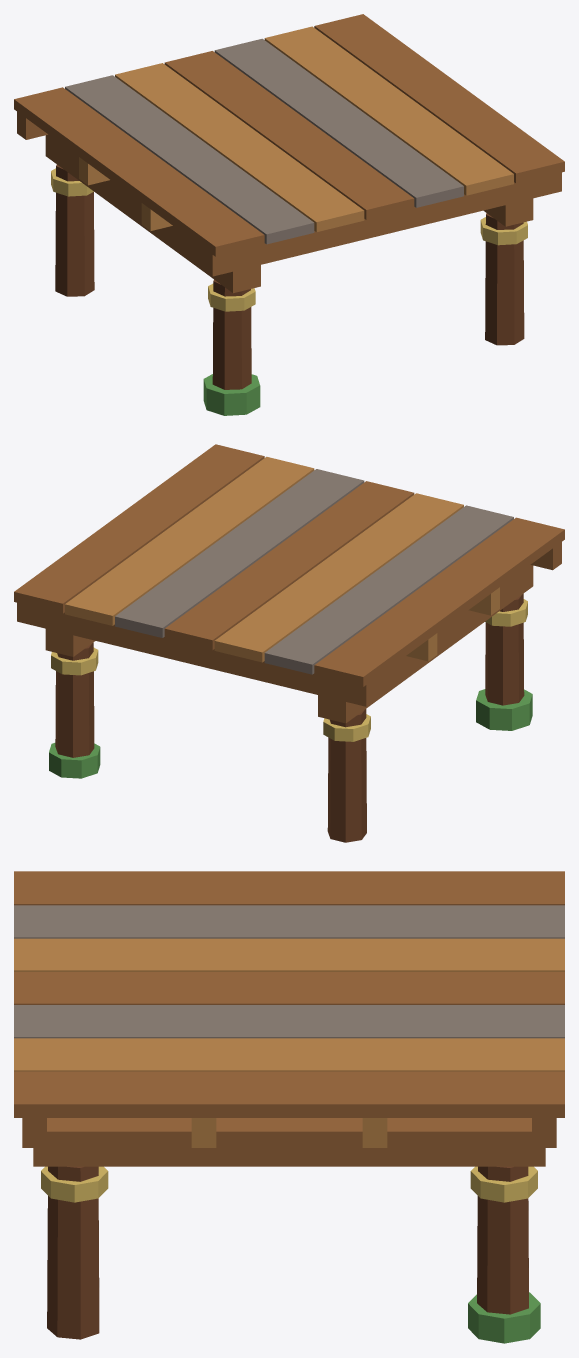
The model's file is floor_wood.glb.
3 renders of one model, top to bottom at view 1: azimuth 30°, elevation 25°; view 2: azimuth 150°, elevation 25°; view 3: azimuth 270°, elevation 25°, orthographic. The views are drawn at different scales.
Visible parts, largest first — view 1: Deck_0.004, Deck_6.003, Deck_3.003, Deck_1.004, Deck_2.004, Deck_5.003, Deck_4.003, Joist_0, Post_2, Post_1.001, Bearer_0.002, Post_0.001 (+5 smaller); view 2: Deck_0.004, Deck_6.003, Deck_3.003, Deck_1.004, Deck_2.004, Deck_4.003, Deck_5.003, Joist_3, Post_1.001, Bearer_0.002, Post_3, Post_0.001 (+6 smaller); view 3: Deck_6.003, Bearer_1.002, Deck_0.004, Deck_1.004, Deck_2.004, Deck_4.003, Deck_5.003, Deck_3.003, Post_2, Post_3, Post_Moss_3, Post_Wrap_3 (+5 smaller).
Part boxes in pixels (left/top/right/bottom): Deck_0.004: left=14, top=87, right=264, bottom=256; Deck_6.003: left=314, top=14, right=564, bottom=183; Deck_3.003: left=164, top=51, right=414, bottom=219; Deck_1.004: left=65, top=75, right=314, bottom=244; Deck_2.004: left=115, top=63, right=364, bottom=232; Deck_5.003: left=264, top=26, right=513, bottom=195; Deck_4.003: left=214, top=38, right=463, bottom=207; Joist_0: left=203, top=172, right=561, bottom=276; Post_2: left=485, top=213, right=524, bottom=345; Post_1.001: left=55, top=164, right=94, bottom=296; Bearer_0.002: left=45, top=134, right=260, bottom=293; Post_0.001: left=212, top=279, right=251, bottom=389; Deck_0.004: left=314, top=517, right=564, bottom=686; Deck_6.003: left=14, top=444, right=264, bottom=613; Deck_3.003: left=164, top=481, right=414, bottom=650; Deck_1.004: left=264, top=505, right=513, bottom=674; Deck_2.004: left=214, top=493, right=463, bottom=662; Deck_4.003: left=115, top=469, right=364, bottom=637; Deck_5.003: left=65, top=456, right=314, bottom=625; Joist_3: left=17, top=602, right=375, bottom=706; Post_1.001: left=327, top=709, right=366, bottom=842; Bearer_0.002: left=318, top=565, right=533, bottom=723; Post_3: left=55, top=642, right=94, bottom=757; Post_0.001: left=485, top=593, right=524, bottom=705; Deck_6.003: left=14, top=1071, right=564, bottom=1117; Bearer_1.002: left=33, top=1118, right=545, bottom=1166; Deck_0.004: left=14, top=871, right=564, bottom=905; Deck_1.004: left=14, top=905, right=564, bottom=938; Deck_2.004: left=14, top=938, right=564, bottom=971; Deck_4.003: left=14, top=1005, right=564, bottom=1038; Deck_5.003: left=14, top=1038, right=564, bottom=1071; Deck_3.003: left=14, top=972, right=564, bottom=1004; Post_2: left=47, top=1166, right=99, bottom=1339; Post_3: left=477, top=1166, right=528, bottom=1314; Post_Moss_3: left=468, top=1292, right=540, bottom=1343; Post_Wrap_3: left=470, top=1166, right=537, bottom=1202.
Bounding box in the file's own units: 2 × 1 × 2.
